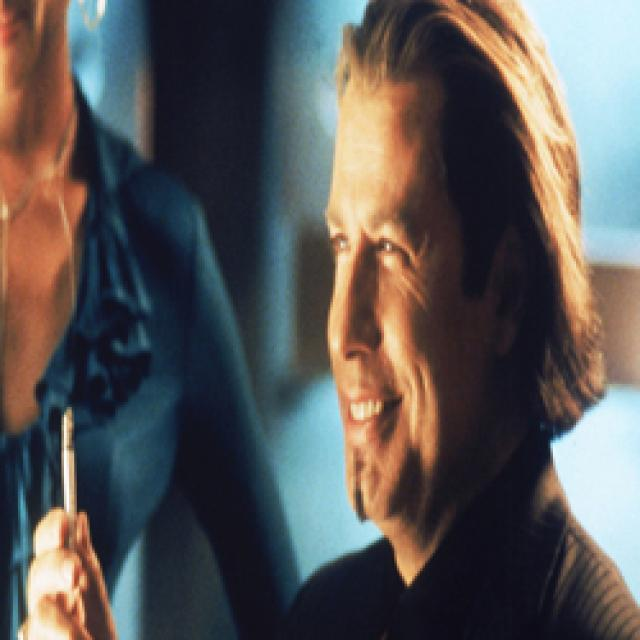Smooking: (44, 401, 86, 513)
